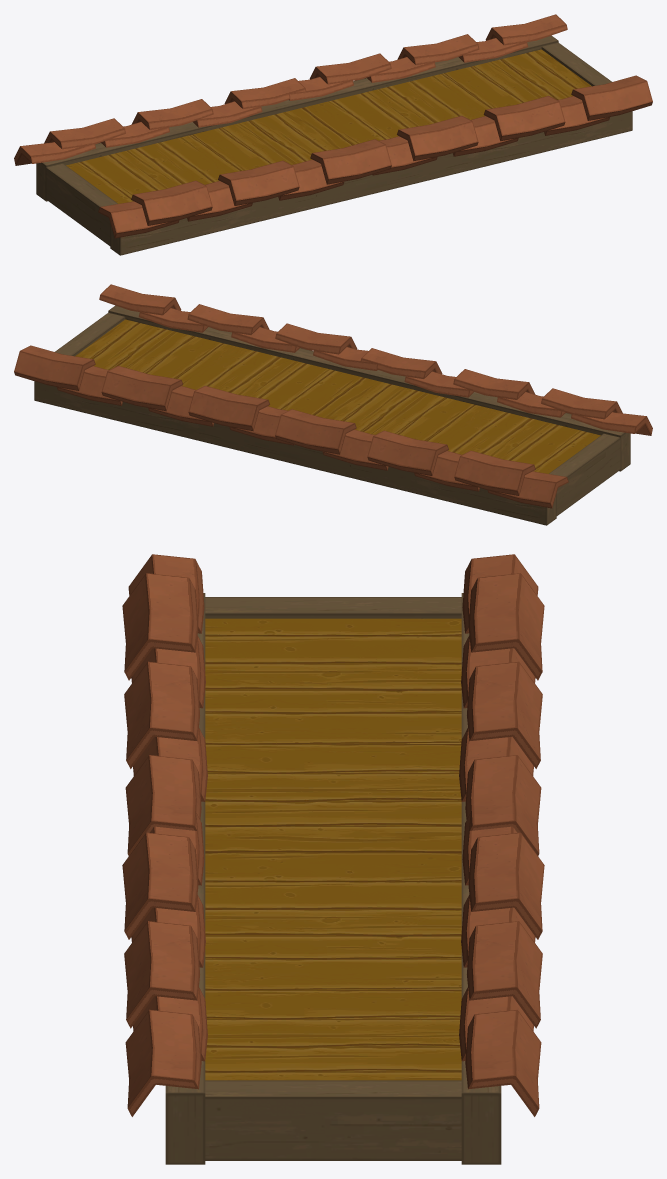
Rendered from SM_building_roof_13.glb.
The picture shows the model from 3 angles, top to bottom: view 1: azimuth 30°, elevation 25°; view 2: azimuth 150°, elevation 25°; view 3: azimuth 270°, elevation 25°; orthographic projection. The views are drawn at different scales.
Parts seen in each view (by area): view 1: SM_building_roof_13; view 2: SM_building_roof_13; view 3: SM_building_roof_13.
Part boxes in pixels (box(x1,y1,x2,y2)): SM_building_roof_13: box(14, 14, 652, 255); SM_building_roof_13: box(14, 284, 652, 525); SM_building_roof_13: box(122, 554, 544, 1164).
Size of the model in its own units: 6.28 by 0.6126 by 2.14.
Materials: 3 (3 with a texture image).
